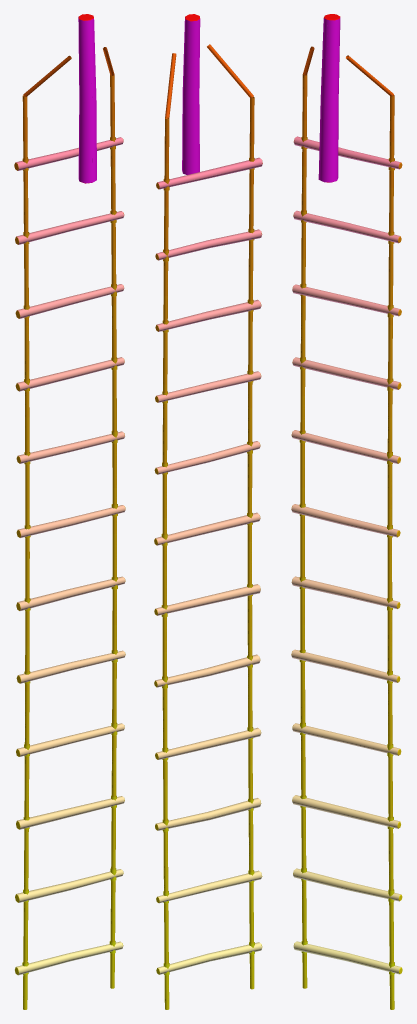
The model's file is camp_rope_ladder.glb.
3 views of the same model, side by side, from view 1: azimuth 30°, elevation 25°; view 2: azimuth 210°, elevation 25°; view 3: azimuth 330°, elevation 25° (orthographic). The views are drawn at different scales.
Parts seen in each view (by area): view 1: Model; view 2: Model; view 3: Model.
Part boxes in pixels (box(x1,y1,x2,y2)): Model: box(14, 14, 125, 1009); Model: box(154, 14, 262, 1009); Model: box(291, 14, 402, 1009).
Bounding box in the file's own units: 0.4848 × 4.35 × 0.2103.
